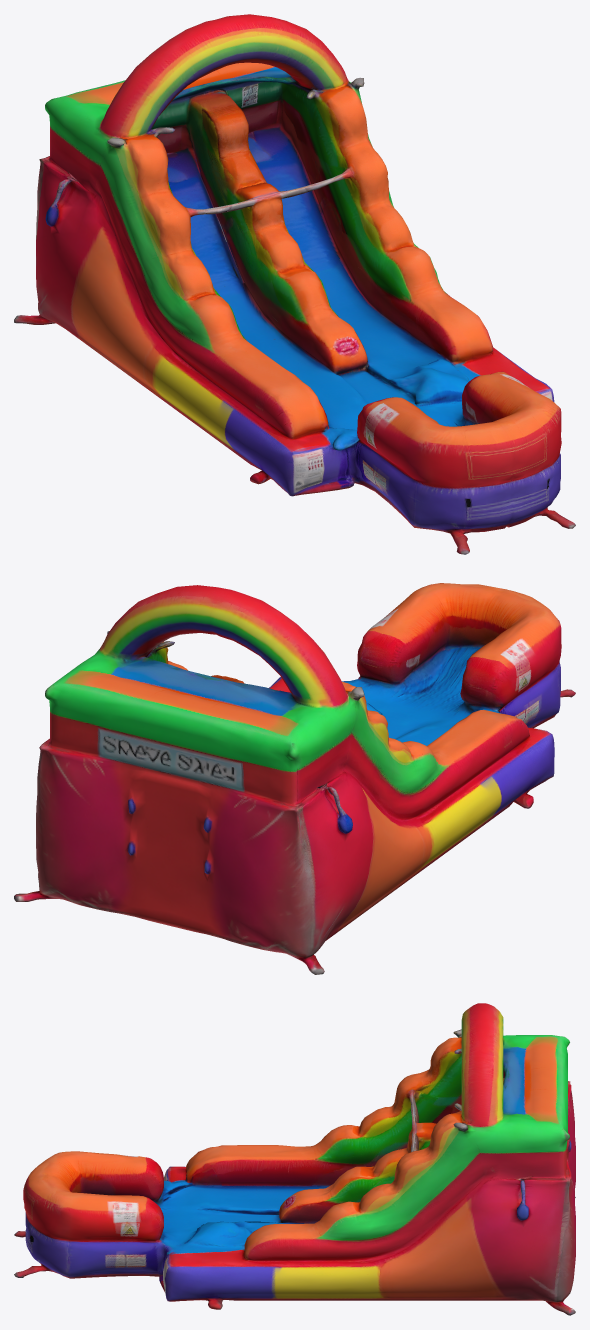
File: Inflatable_Rainbow_12FTTall_0222022909_texture.glb
The picture shows the model from 3 angles, top to bottom: view 1: azimuth 30°, elevation 25°; view 2: azimuth 150°, elevation 25°; view 3: azimuth 270°, elevation 25°; orthographic projection. The views are drawn at different scales.
Parts seen in each view (by area): view 1: Mesh_0; view 2: Mesh_0; view 3: Mesh_0.
Part boxes in pixels (x1,y1,x2,y2): Mesh_0: [14, 14, 575, 554]; Mesh_0: [14, 583, 575, 974]; Mesh_0: [14, 1003, 575, 1315].
Bounding box in the file's own units: 3.88 × 3.66 × 7.71.
1 material, 1 textured.
